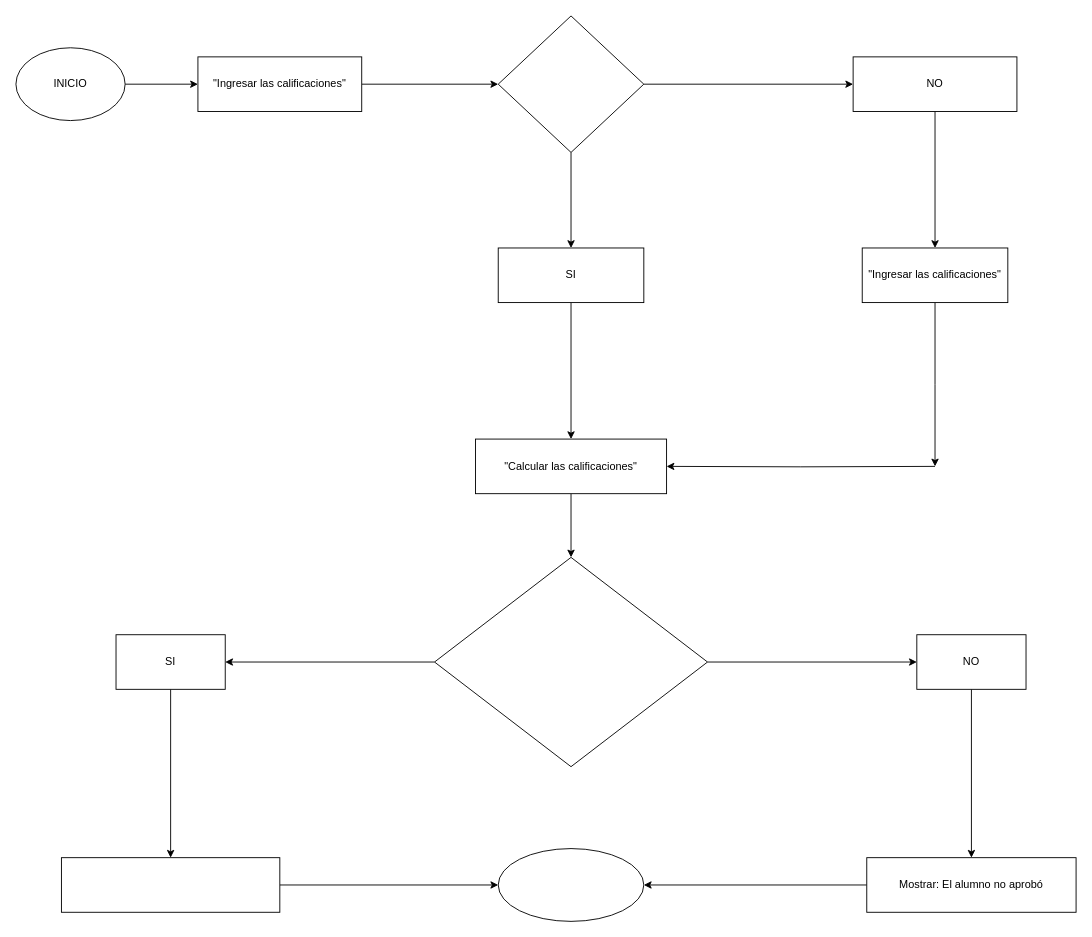
The diagram is 1092 pixels wide and 937 high, and some of its shapes have lost their labels. The centre of each missing label's shape, as x and y in pixels:
FIN: point 570,884
Mostrar en pantalla: El alumno aprobó: point 170,884
¿El promedio es >=7?: point 571,661
¿Se ingresaron todas las calificaciones?: point 570,83
